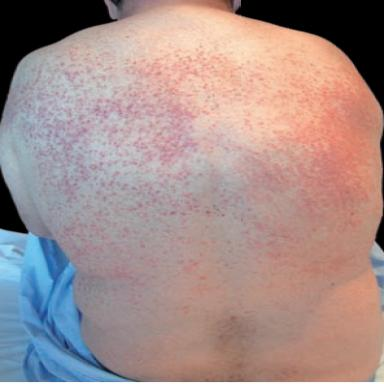Darier_s-Disease: (2, 35, 381, 248)
